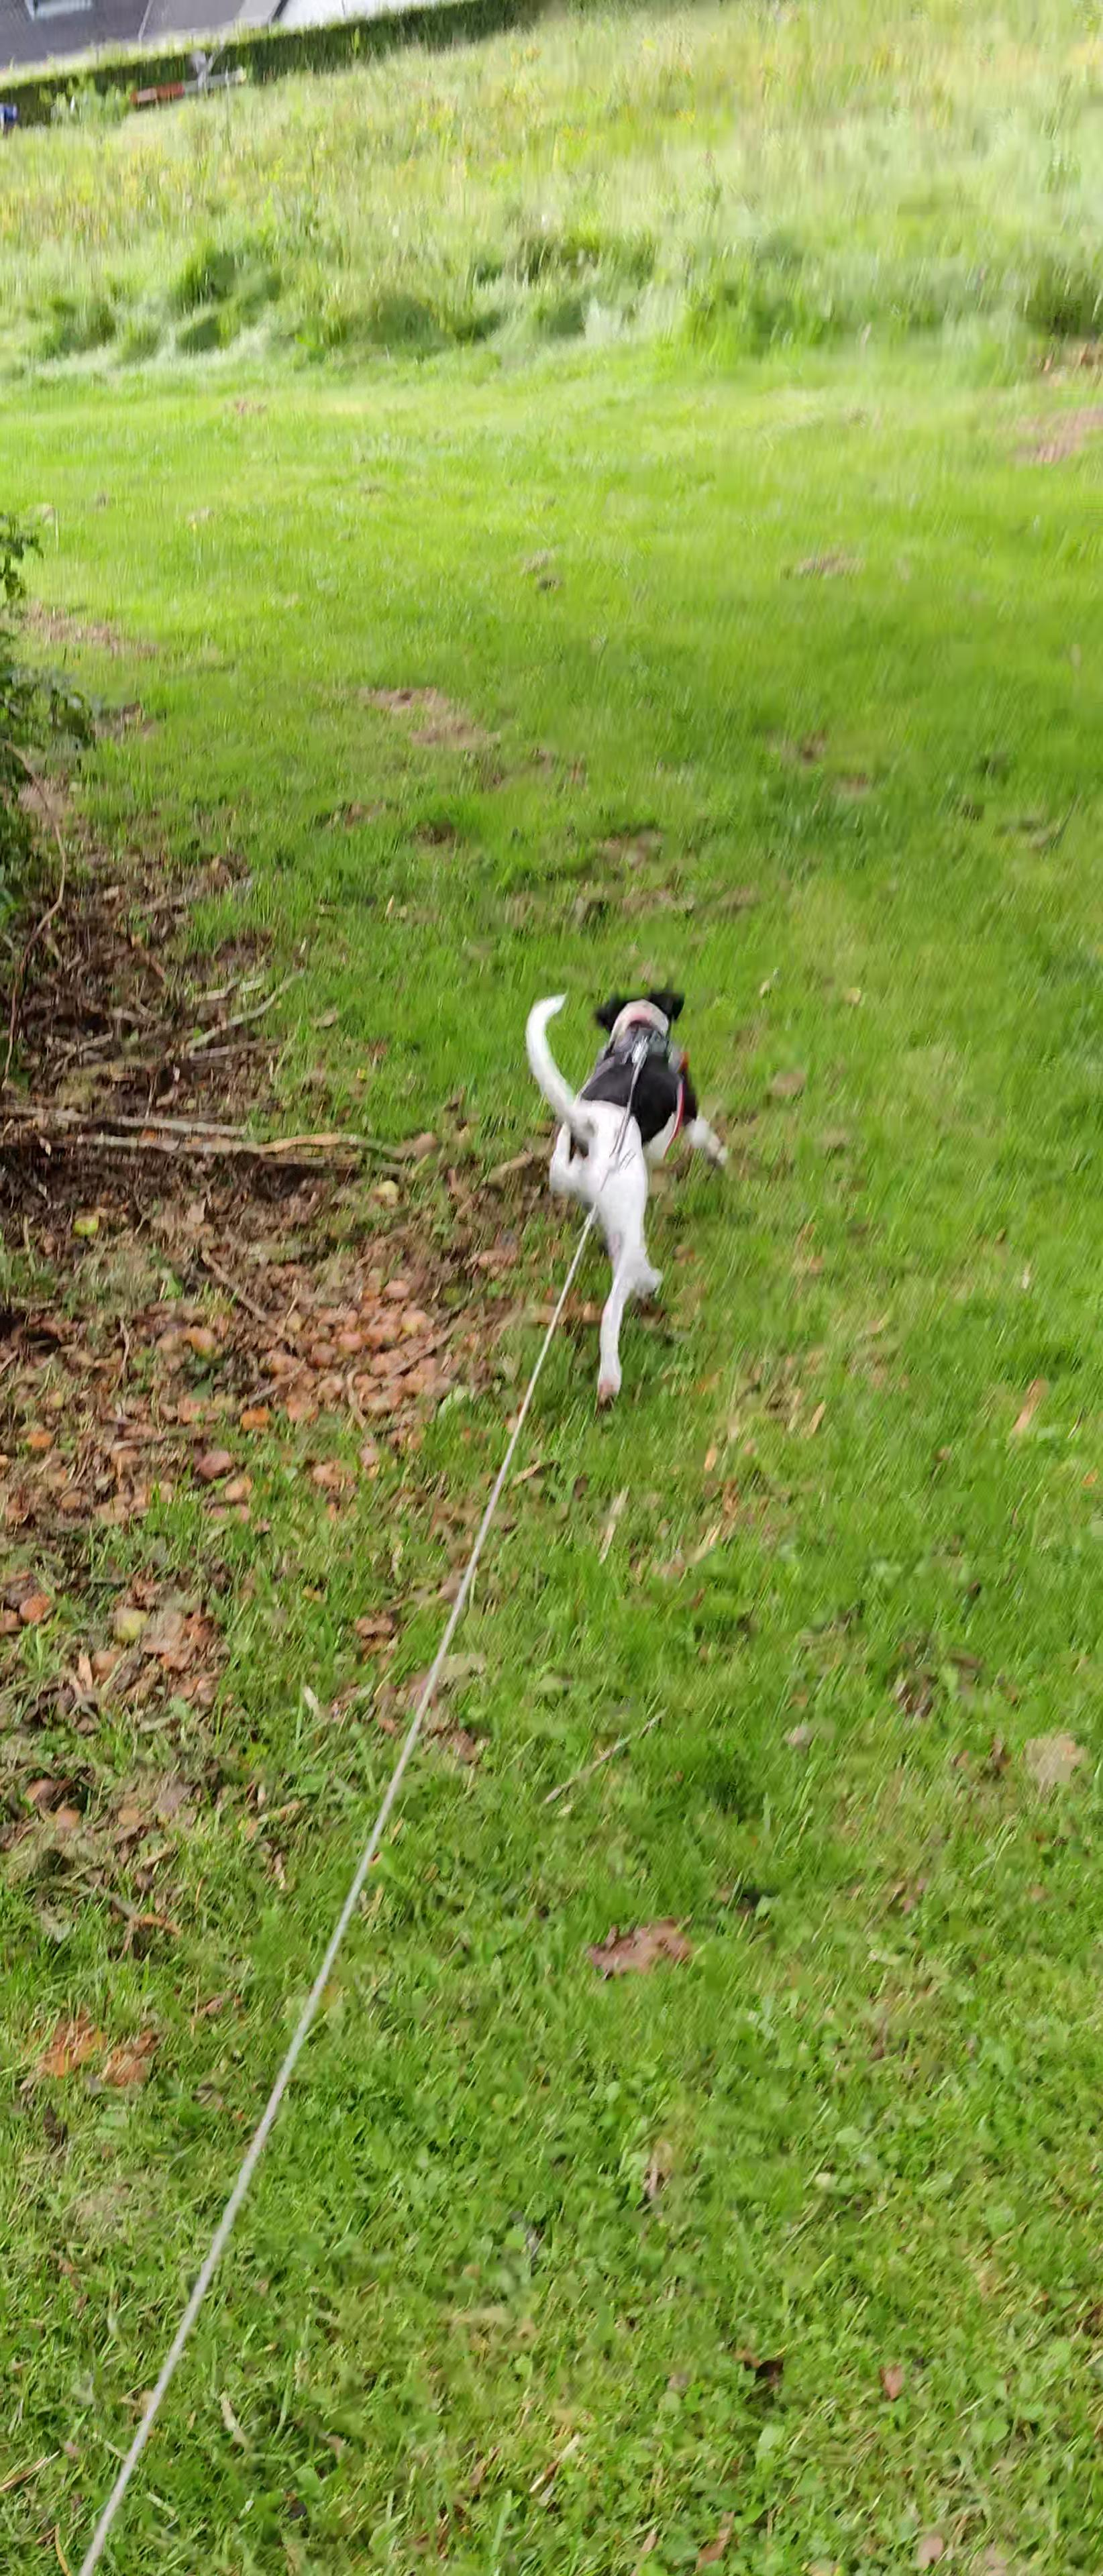Dog: (495, 964, 740, 1418)
